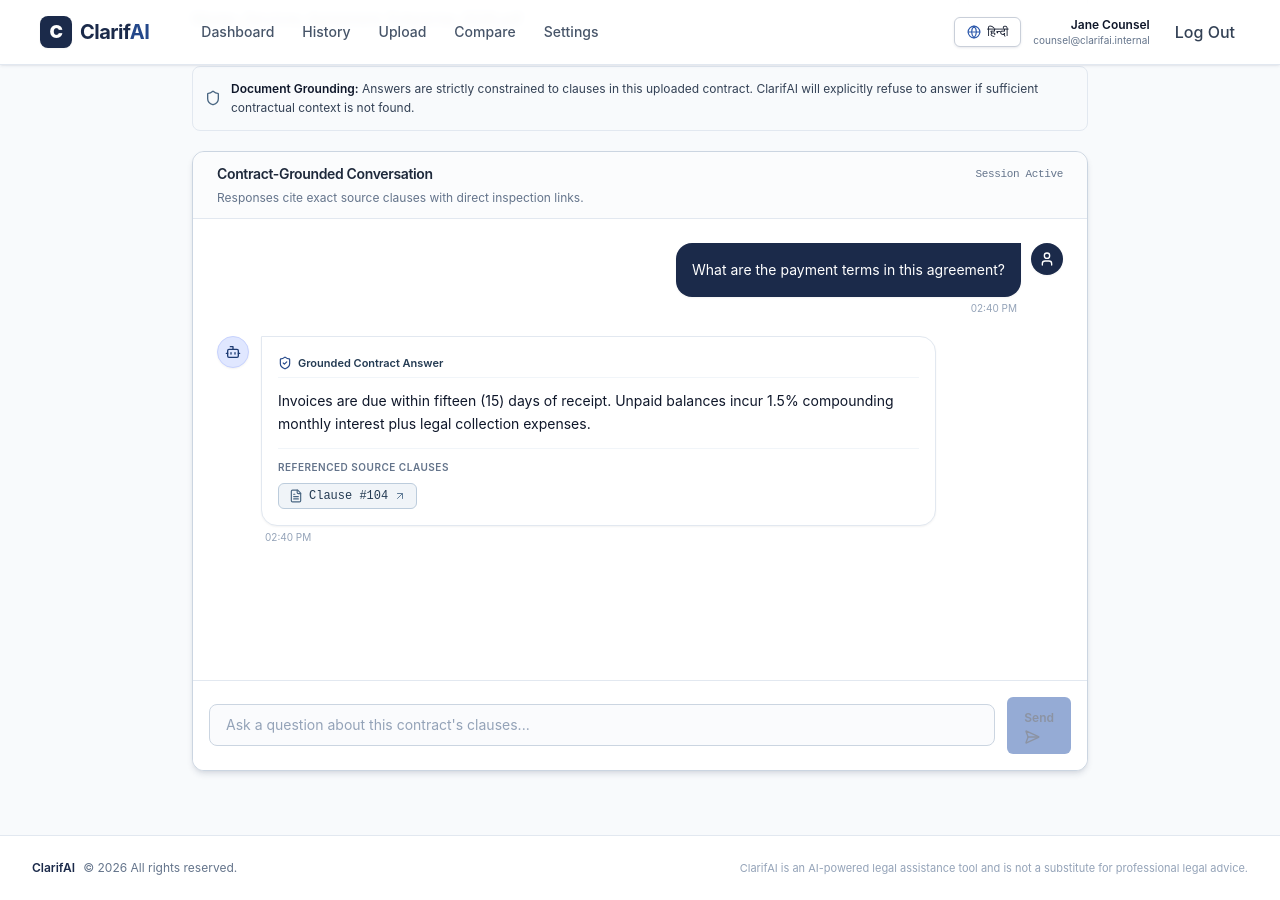
Test case: ChatbotPage (PRD Ch. 17, 22.9 & Section 8.4) › displays PRD Ch. 17.7 controlled no-answer response when query lacks document context
(page scrolled)
Expected: the text "What are the payment terms in this agreement?" is shown, [692, 258, 1005, 281]
Expected: the button with aria-label "send message" is shown, [1007, 697, 1071, 754]
Type "What are the company travel meal allowances?" into the field labelled "Ask a question about this contract's clauses..." at (602, 725), box [209, 704, 995, 746]
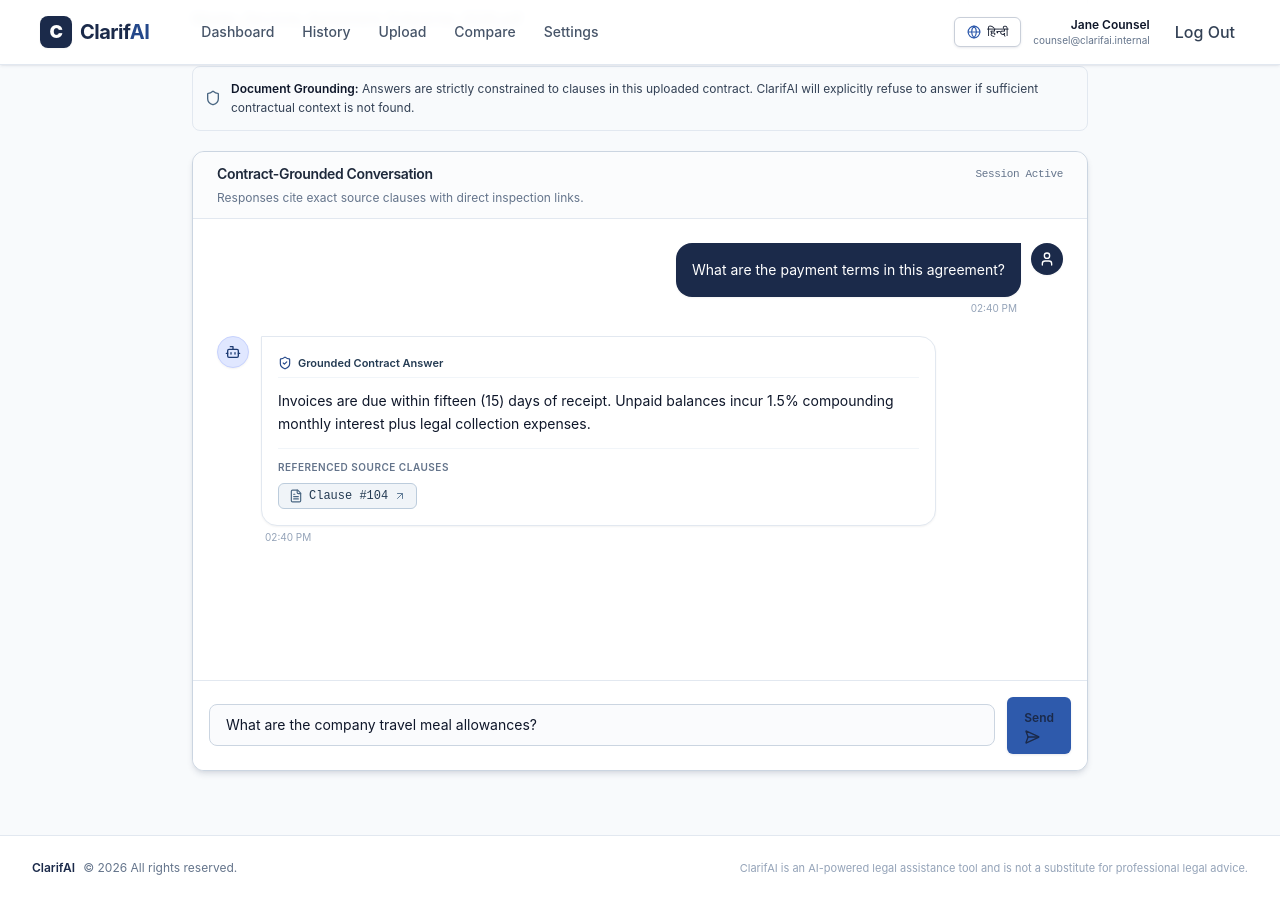
Expected: the button with aria-label "send message" is enabled, [1007, 697, 1071, 754]
Submit the form with test id "chat-input-form", box [193, 680, 1087, 770]
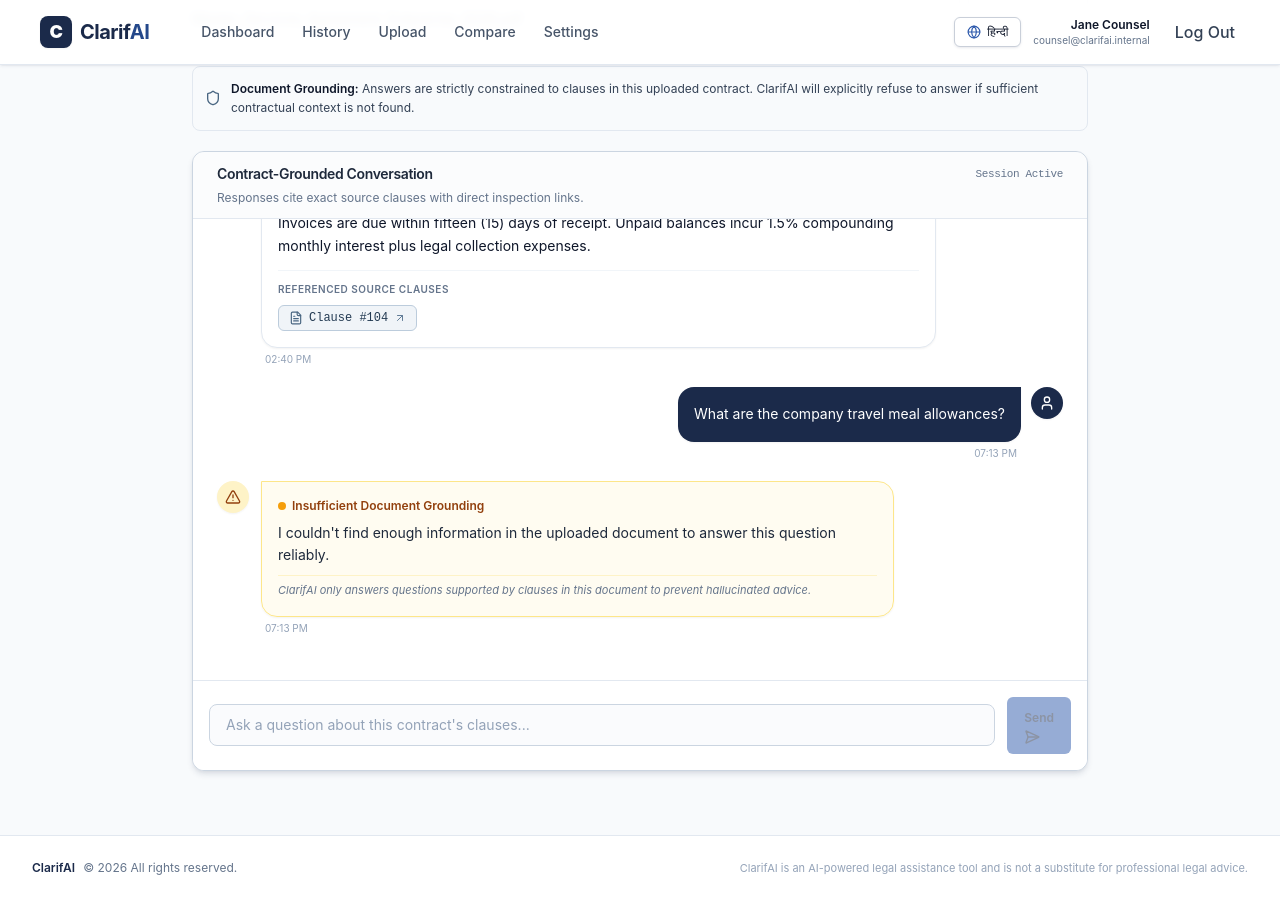
Expected: the text "What are the company travel meal allowances?" is shown, [694, 403, 1005, 426]
Expected: the text "I couldn't find enough information in the uploaded document to answer this question reliably." is shown, [278, 524, 836, 563]
Expected: the element with test id "chat-message-no-answer" is shown, [217, 480, 894, 636]
